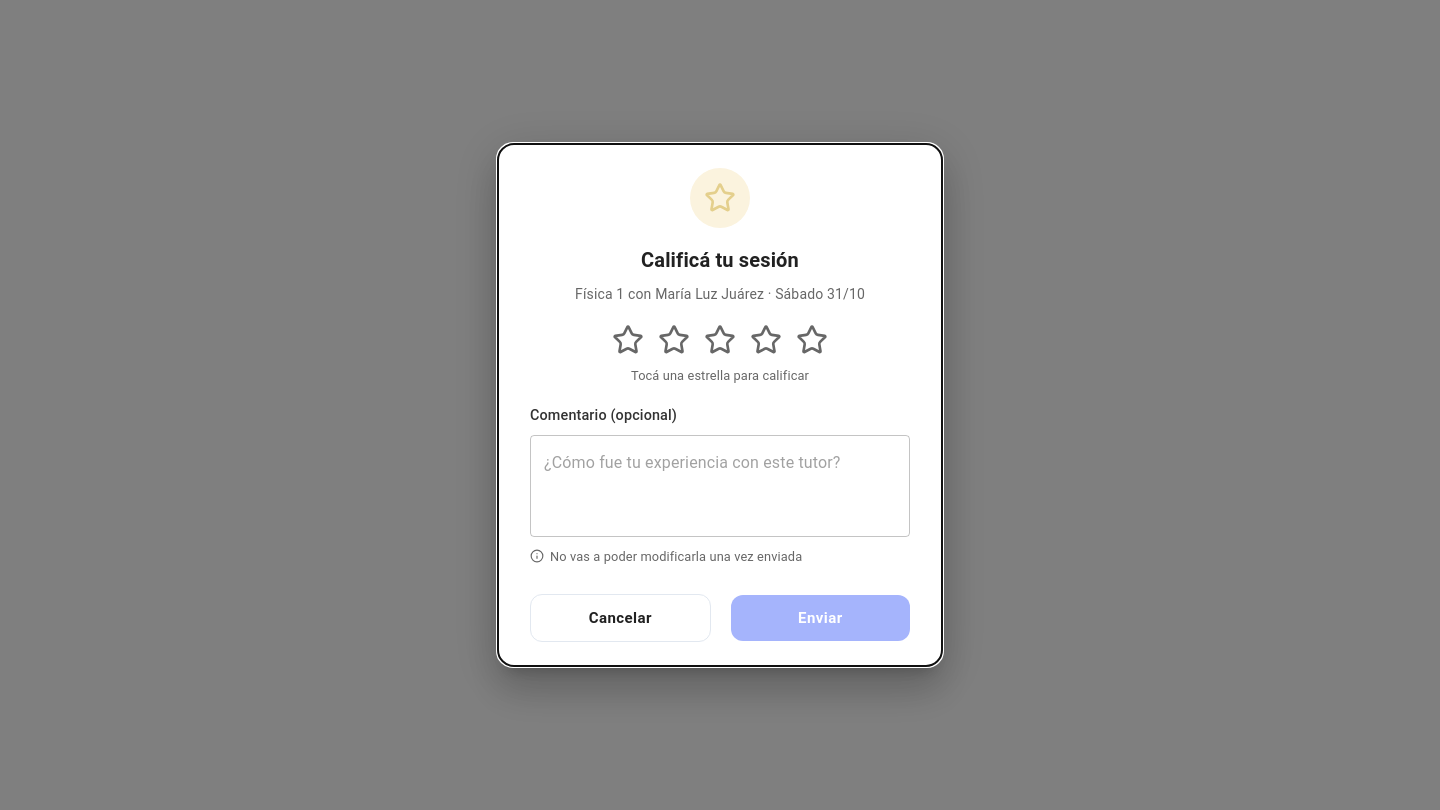
Test case: RatingPopupHost › un 409 muestra el dialogo de ya calificaste
This screenshot has width=1440, height=810.
Step 1. Click the radio button named "5 estrellas" → (812, 340), box [792,320,832,360]
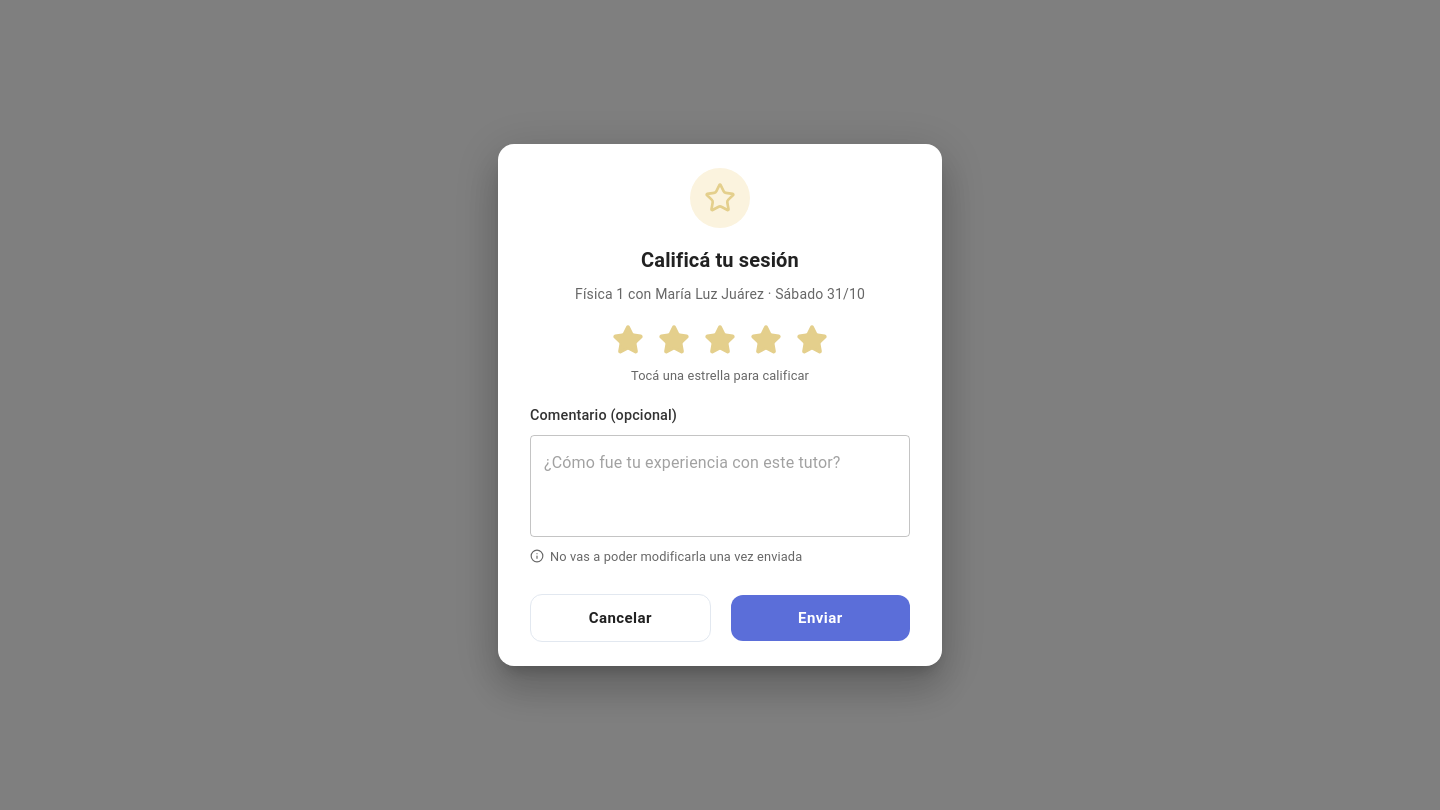
Step 2. Click the button "Enviar" → (820, 618), box [731,595,910,641]
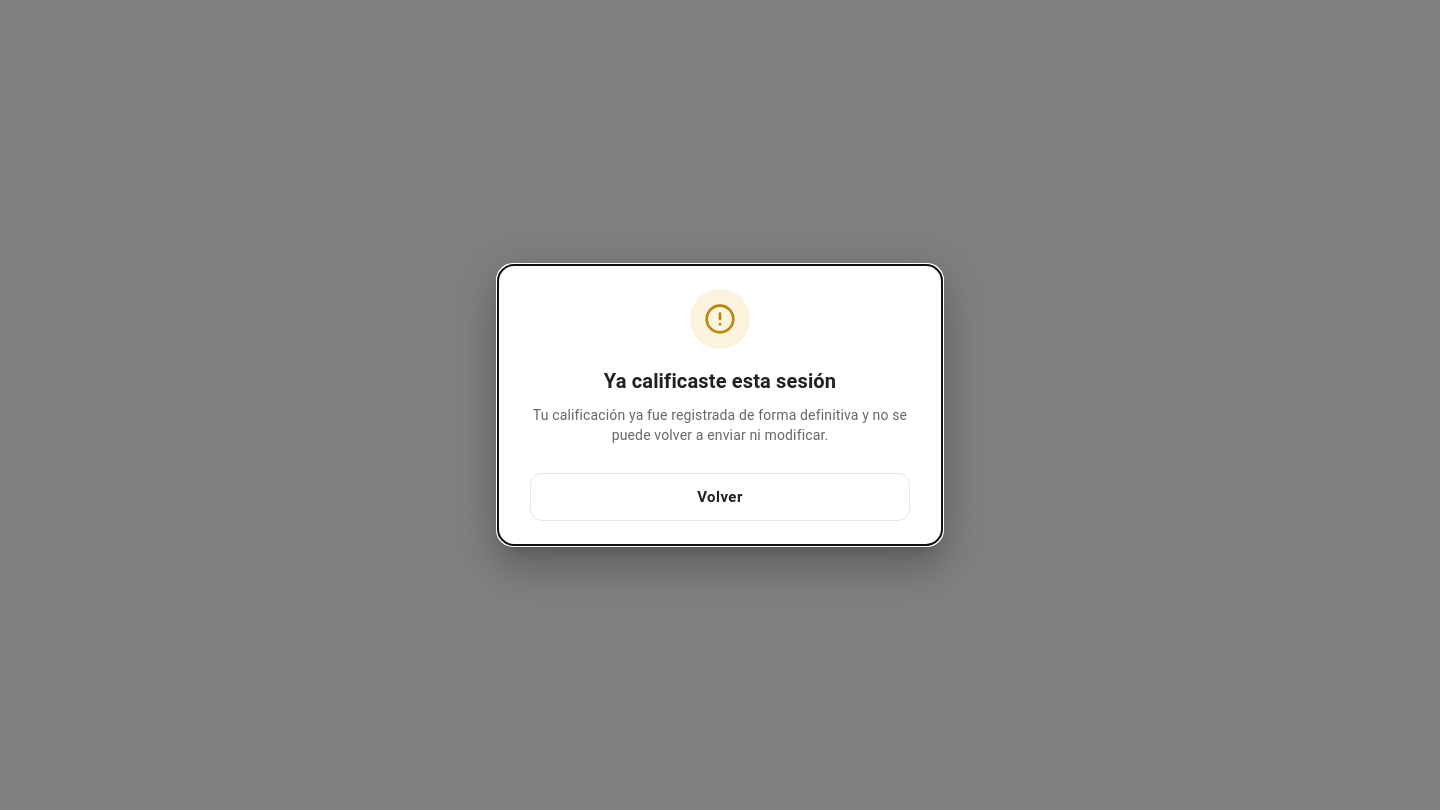
Check: the heading "Ya calificaste esta sesión" is shown, box [604,365,836,397]
